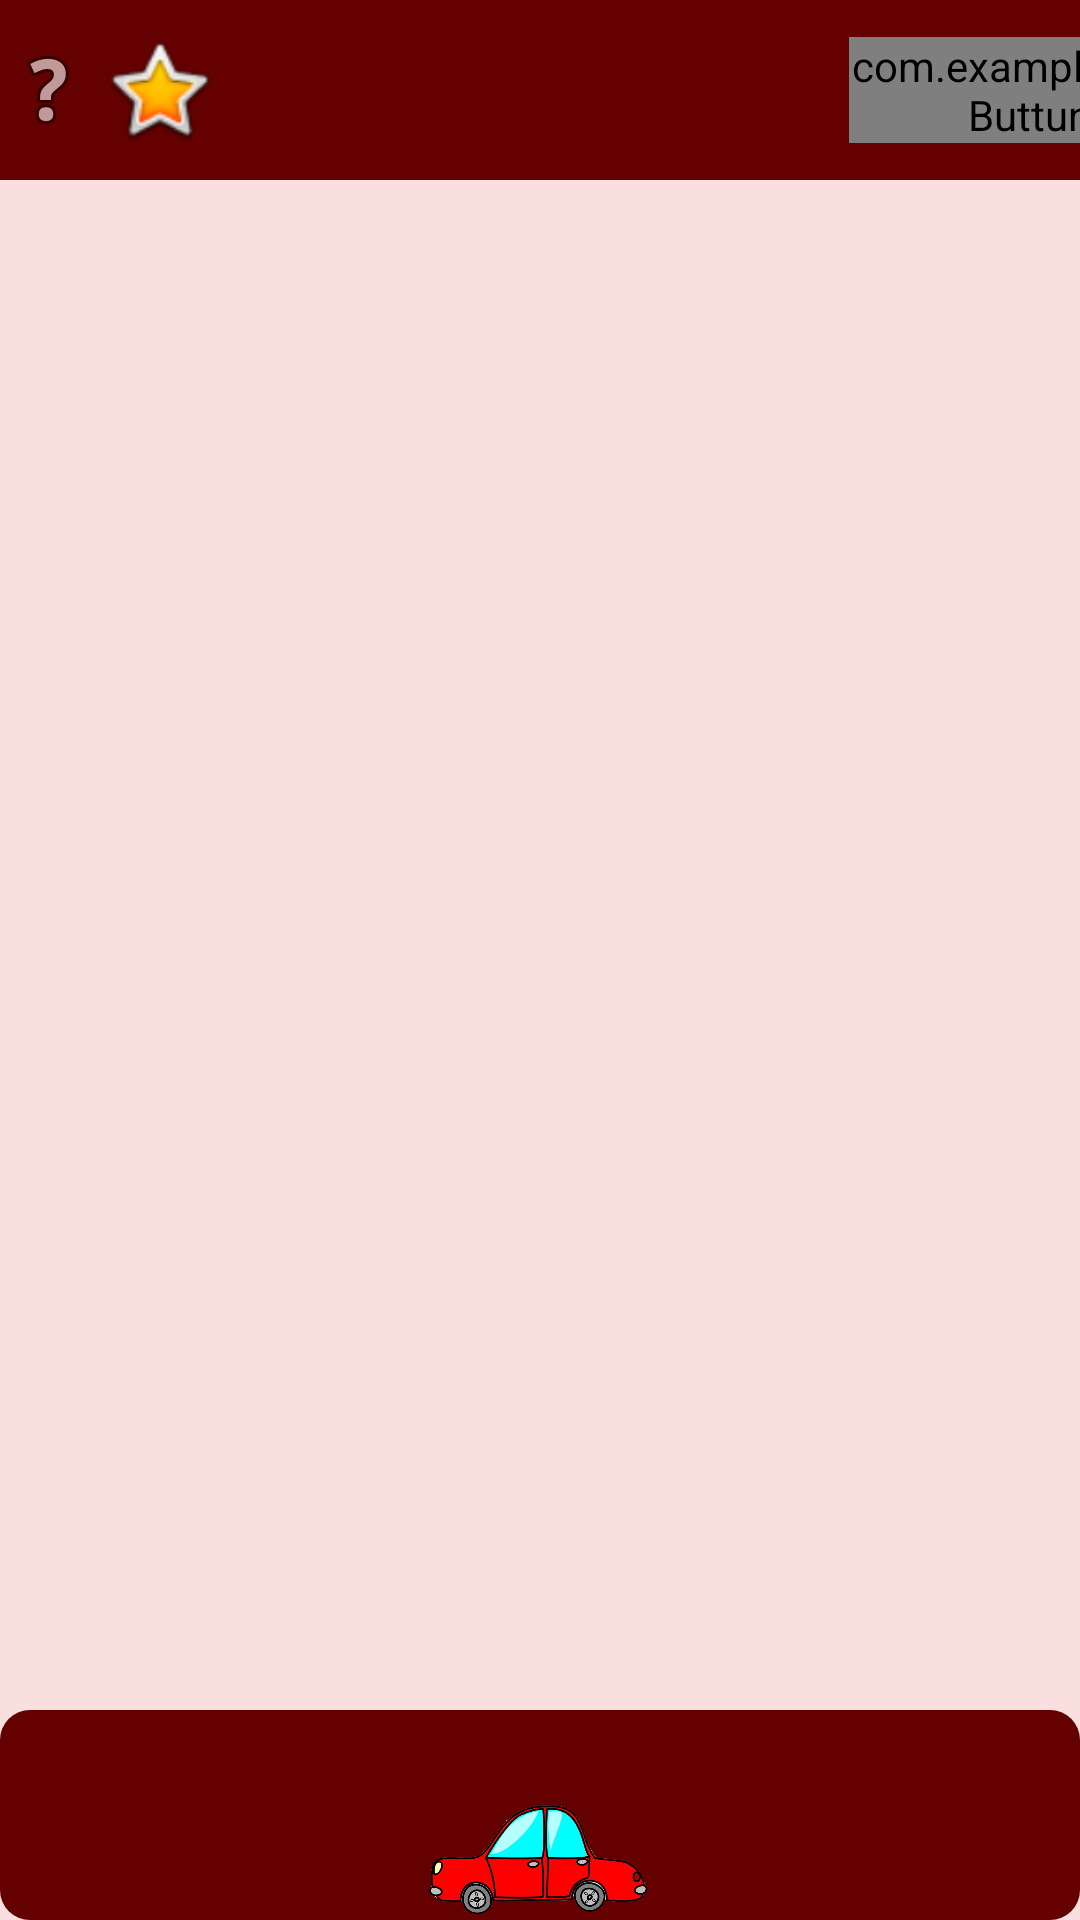

Icons on this 1080 x 1920 Android screen, each with its box as [x1,y1,x2,y2]:
carr: [429,1805,647,1914]
help: [28,56,69,124]
star on: [112,44,208,138]
